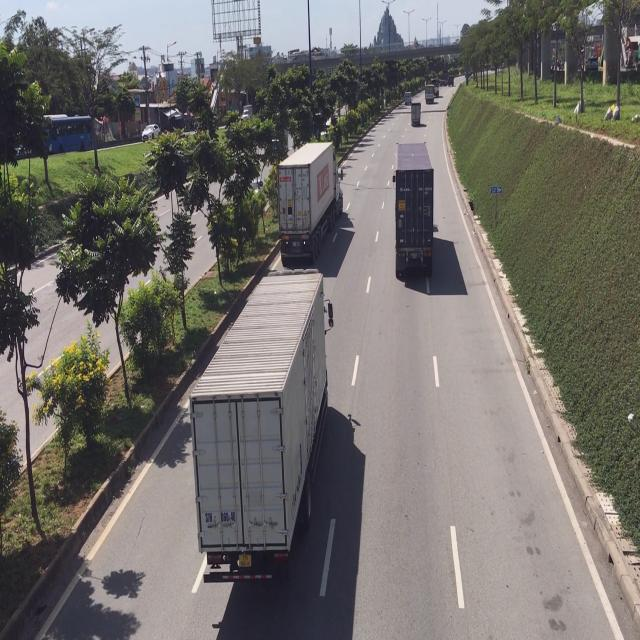truck: (198, 266, 336, 582), (279, 139, 345, 263), (393, 136, 437, 280)
